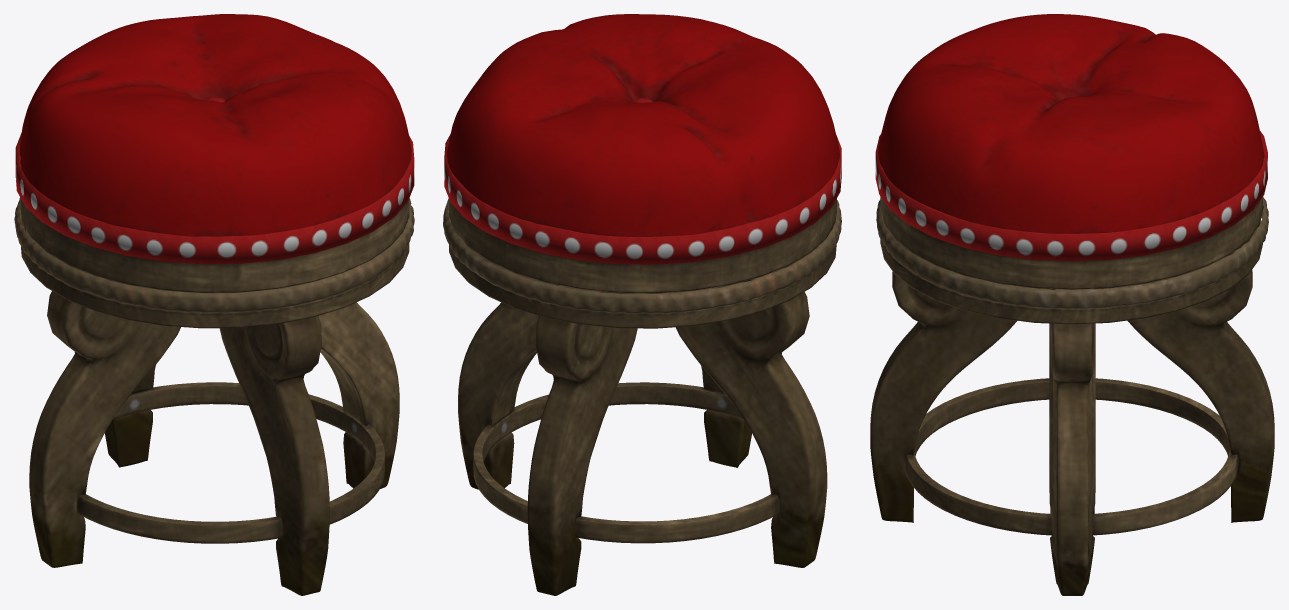
File: obj_spool_classic_4a5903.glb
3 views of the same model, side by side, from view 1: azimuth 30°, elevation 25°; view 2: azimuth 150°, elevation 25°; view 3: azimuth 270°, elevation 25° (orthographic).
Parts seen in each view (by area): view 1: obj_spool_classic_4a5903; view 2: obj_spool_classic_4a5903; view 3: obj_spool_classic_4a5903.
Boxes of the visible parts, x1,y1,x2,y2 form: obj_spool_classic_4a5903: (14,14,414,595); obj_spool_classic_4a5903: (443,14,841,595); obj_spool_classic_4a5903: (870,14,1274,595).
Size of the model in its own units: 0.3436 by 0.42 by 0.3436.
Materials: 7 (7 with a texture image).
